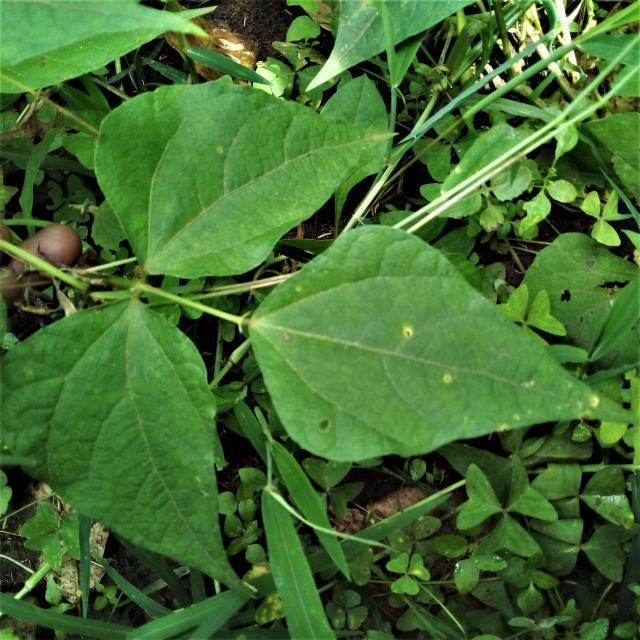mozaik: (309, 285, 512, 451)
sehat: (19, 348, 192, 533), (122, 114, 279, 219)
